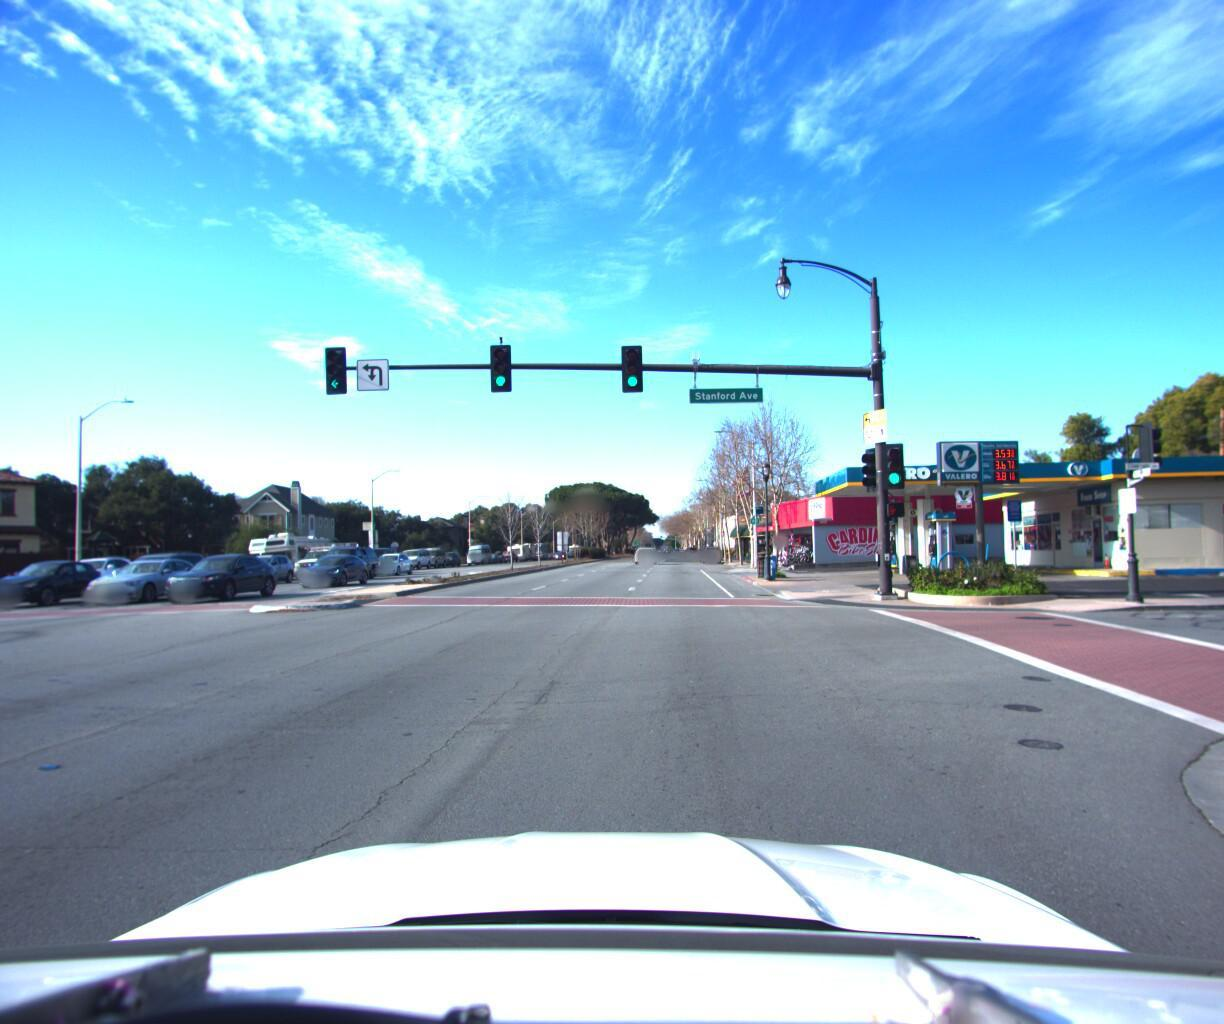bicycle: (769, 546, 794, 563)
car: (156, 548, 286, 608), (77, 553, 222, 605), (103, 547, 220, 596), (41, 552, 152, 600), (281, 536, 367, 577), (288, 548, 378, 587), (305, 540, 387, 579), (226, 548, 301, 584), (364, 548, 420, 575), (393, 542, 435, 566), (412, 540, 448, 565), (630, 539, 655, 558), (700, 538, 721, 558)
other_vehicle: (242, 526, 336, 581)
